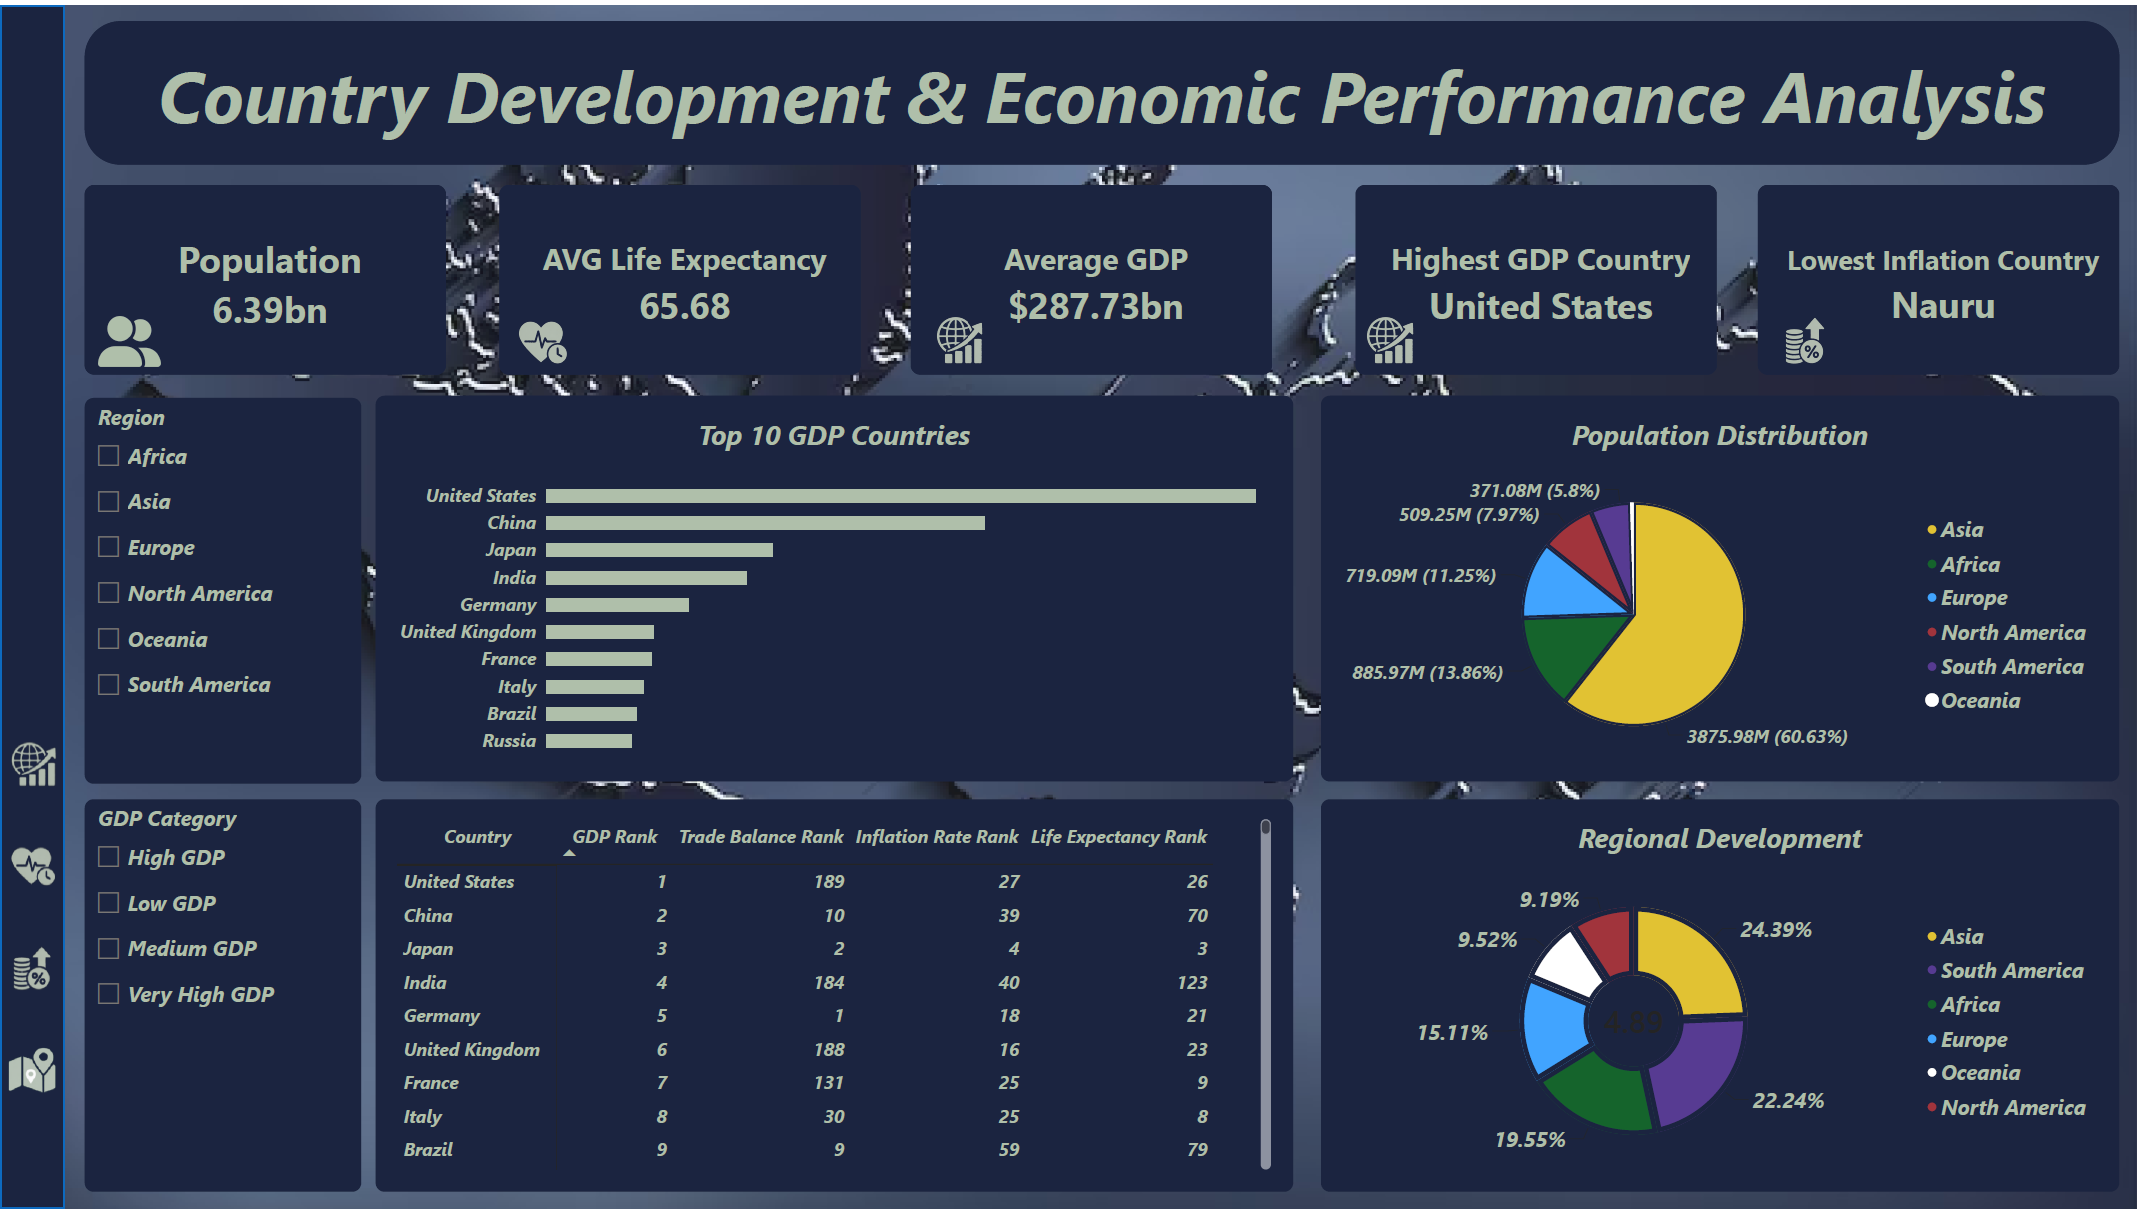

What the dashboard file says about the page in this screenshot:
{"tool":"powerbi","page":{"name":"Executive Overview","canvas":[1920,1080],"ordinal":0},"visuals":[{"type":"shape","box":[0,0,58,1080.2],"z":0,"group":"g1"},{"type":"cardVisual","fields":{"Data":["Country Measures.Total Population"]},"box":[76.1,161.3,324,170.4],"z":0},{"type":"shape","box":[76.1,14.5,1825.2,128.7],"z":1000},{"type":"actionButton","box":[1.8,723.2,58,87],"z":1000,"group":"g1"},{"type":"cardVisual","fields":{"Data":["Country Measures.Average Life Expectancy"]},"box":[447.7,161.3,324,170.4],"z":2000},{"type":"actionButton","box":[0,814.4,58,87],"z":2000,"group":"g1"},{"type":"cardVisual","fields":{"Data":["Country Measures.Average GDP"]},"box":[817.4,161.3,324,170.4],"z":3000},{"type":"actionButton","box":[0,630.7,58,87],"z":3000,"group":"g1"},{"type":"cardVisual","fields":{"Data":["Min(Country Data Comparison.Country)"]},"box":[1216.2,161.3,324,170.4],"z":4000},{"type":"actionButton","box":[0,906.2,58,87],"z":4000,"group":"g1"},{"type":"cardVisual","fields":{"Data":["Min(Country Data Comparison.Country)"]},"box":[1576.8,161.3,324,170.4],"z":5000},{"type":"barChart","title":"Top 10 GDP Countries ","fields":{"Category":["Country Data Comparison.Country"],"Y":["Sum(Country Data Comparison.GDP)"]},"box":[337.1,349.8,822.9,346.2],"z":6000},{"type":"pieChart","title":"Population Distribution","fields":{"Category":["Country Data Comparison.Continent"],"Y":["Country Measures.Total Population"]},"box":[1185.4,349.8,715.9,346.2],"z":7000},{"type":"pivotTable","fields":{"Rows":["Country Data Comparison.Country"],"Values":["Country Measures.GDP Rank","Country Measures.Trade Balance Rank","Country Measures.Inflation Rate","Country Measures.Life Expectancy Rank"]},"box":[337.1,712.3,822.9,351.6],"z":8000},{"type":"donutChart","title":"Regional Development ","fields":{"Category":["Country Data Comparison.Continent"],"Y":["Avg(Country Data Comparison.GDP - real growth rate(%))"]},"box":[1185.4,712.3,715.9,351.6],"z":9000},{"type":"slicer","fields":{"Values":["Country Data Comparison.Continent"]},"box":[76.1,351.6,248.3,346.2],"z":10000},{"type":"slicer","fields":{"Values":["Country Data Comparison.GDP Category"]},"box":[76.1,712.3,248.3,351.6],"z":11000},{"type":"image","box":[58,279.1,116,45.3],"z":12000},{"type":"image","box":[429.6,271.9,116,61.6],"z":13000},{"type":"image","box":[817.4,270.1,85.2,61.6],"z":14000},{"type":"image","box":[1203.5,270.1,85.2,61.6],"z":15000},{"type":"image","box":[1576.8,270.1,85.2,61.6],"z":16000},{"type":"group","id":"g1","title":"Group 1","box":[0,0,59.8,1080.2],"z":16001}]}

Visuals, with their boxes in screenshot pixels (x1, y1, x2, y2), scaled from the page's 1920x1080 canvas onto the 2137x1210 screenshot:
shape: locate(0, 0, 65, 1209)
cardVisual - Country Measures.Total Population: locate(85, 181, 445, 372)
shape: locate(85, 16, 2116, 160)
actionButton: locate(2, 810, 67, 908)
cardVisual - Country Measures.Average Life Expectancy: locate(498, 181, 859, 372)
actionButton: locate(0, 912, 65, 1010)
cardVisual - Country Measures.Average GDP: locate(910, 181, 1270, 372)
actionButton: locate(0, 707, 65, 804)
cardVisual - Min(Country Data Comparison.Country): locate(1354, 181, 1714, 372)
actionButton: locate(0, 1015, 65, 1113)
cardVisual - Min(Country Data Comparison.Country): locate(1755, 181, 2116, 372)
"Top 10 GDP Countries " barChart: locate(375, 392, 1291, 780)
"Population Distribution" pieChart: locate(1319, 392, 2116, 780)
pivotTable - Country Data Comparison.Country x Country Measures.GDP Rank: locate(375, 798, 1291, 1192)
"Regional Development " donutChart: locate(1319, 798, 2116, 1192)
slicer - Country Data Comparison.Continent: locate(85, 394, 361, 782)
slicer - Country Data Comparison.GDP Category: locate(85, 798, 361, 1192)
image: locate(65, 313, 194, 363)
image: locate(478, 305, 607, 374)
image: locate(910, 303, 1005, 372)
image: locate(1340, 303, 1434, 372)
image: locate(1755, 303, 1850, 372)
"Group 1" group: locate(0, 0, 67, 1209)
